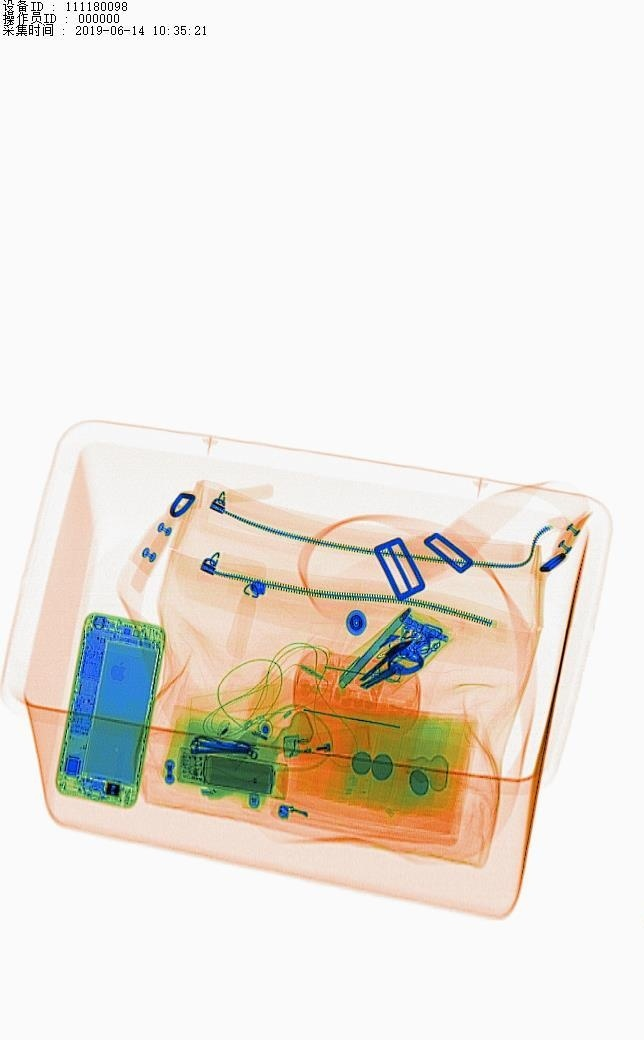NonmetallicFire: (275, 723, 372, 765)
